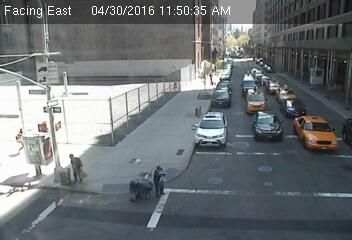neg: (127, 168, 155, 206), (308, 64, 327, 90), (3, 173, 20, 197), (38, 136, 54, 157), (30, 165, 45, 185), (191, 106, 204, 122)
pos: (59, 148, 92, 191), (145, 164, 173, 201), (6, 122, 33, 159)
